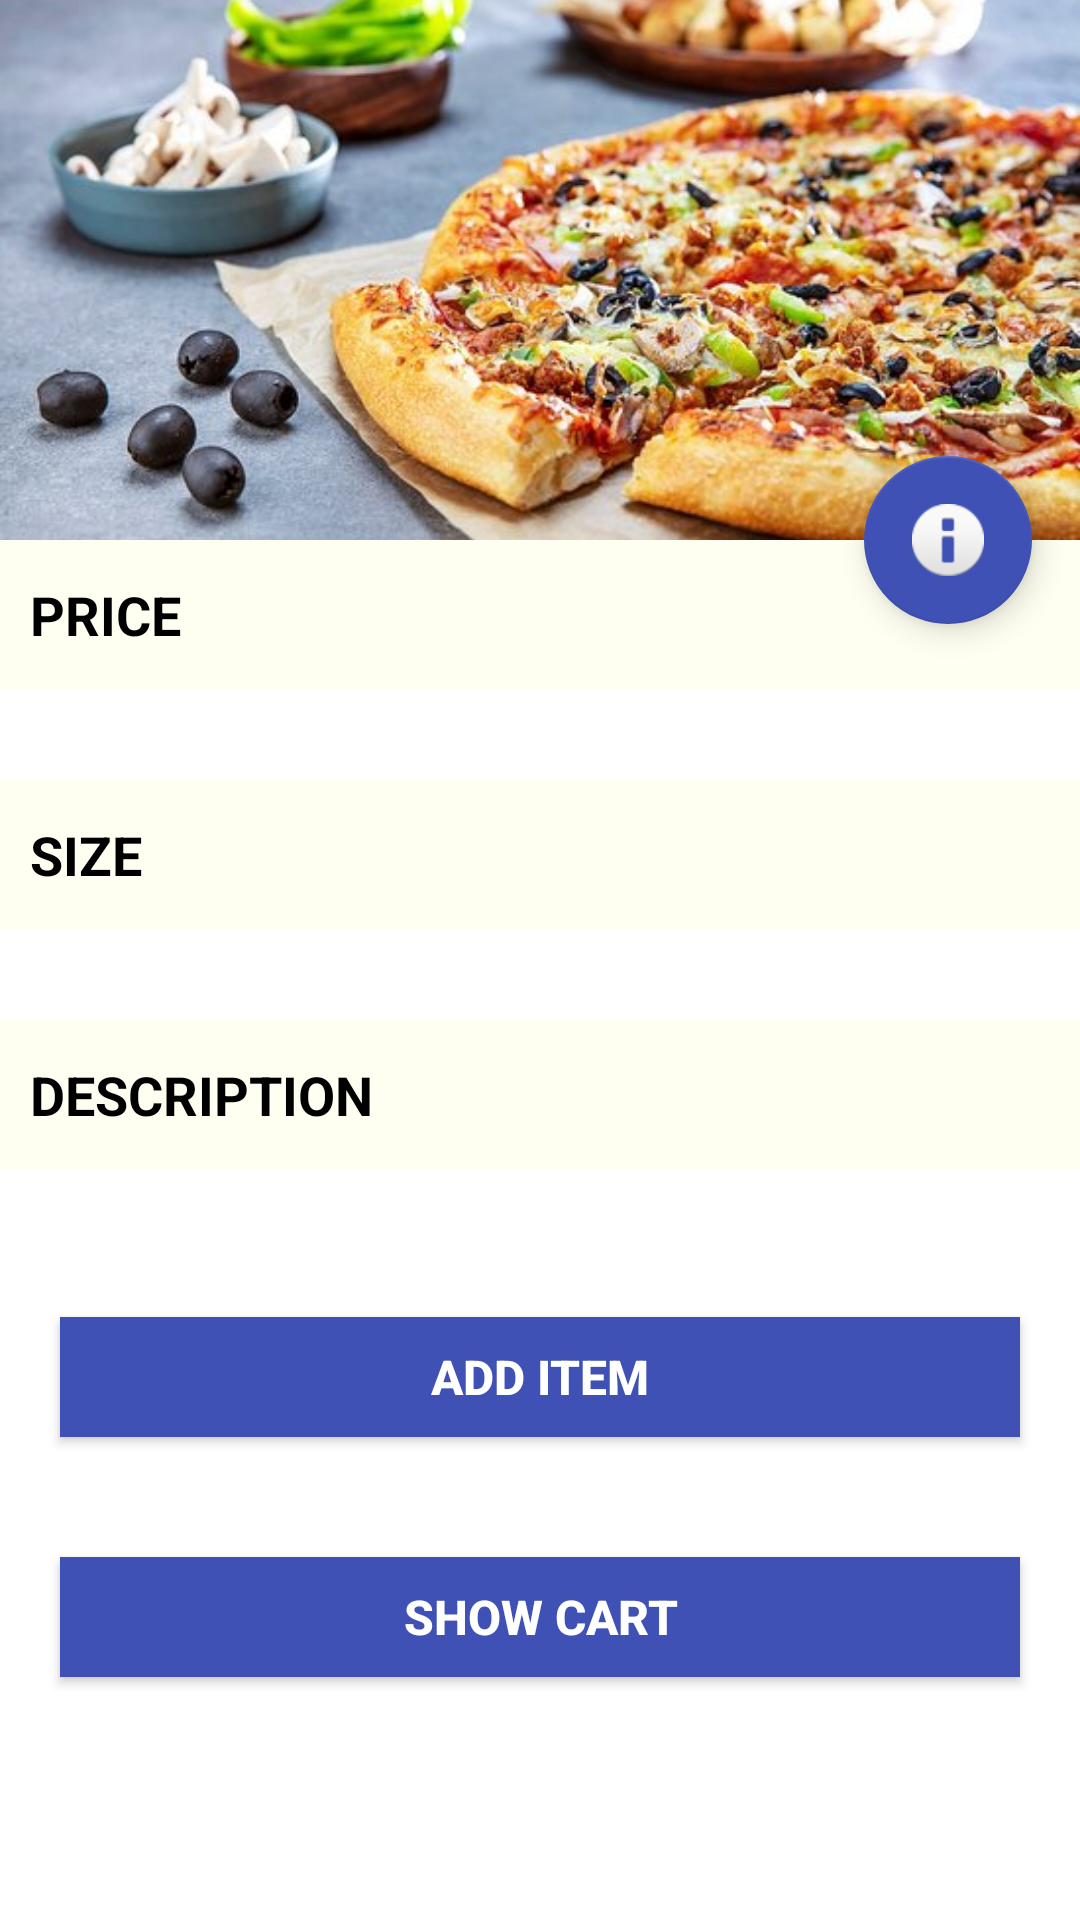

Named icons in this screenshot (1080x1920) and their centers, point (x, y):
info: point (948, 540)
